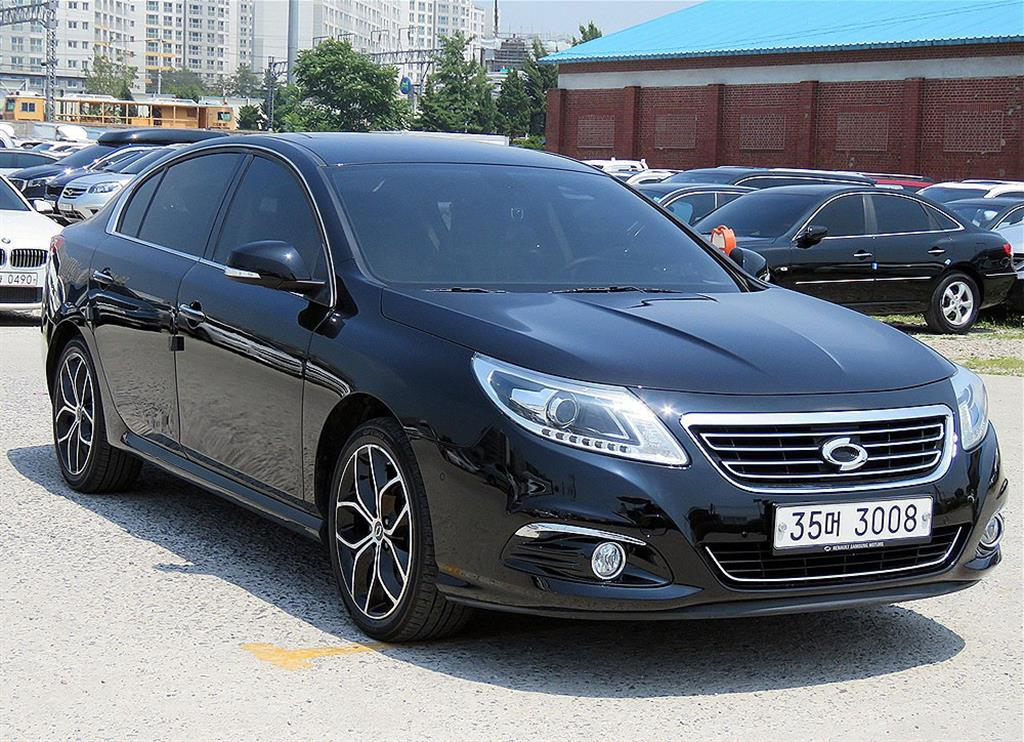plate: (774, 498, 932, 549)
